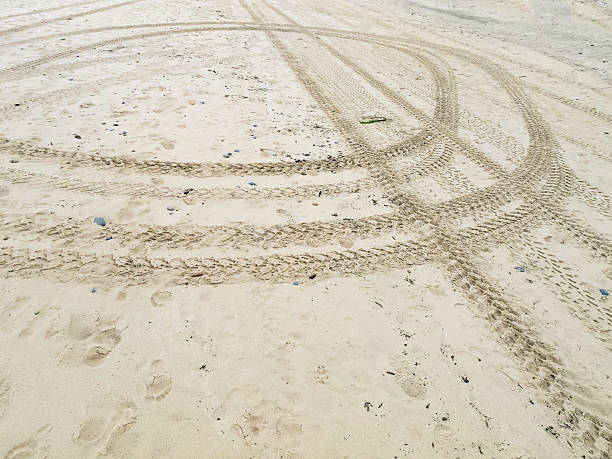vehicle_track: (244, 25, 610, 443), (352, 139, 611, 443), (320, 41, 505, 176), (0, 241, 428, 284), (0, 138, 358, 176), (0, 167, 374, 199), (510, 235, 611, 348), (100, 213, 413, 248), (462, 201, 611, 262), (438, 146, 550, 213), (477, 47, 608, 97), (451, 148, 546, 211), (0, 0, 143, 35), (364, 47, 436, 101), (527, 83, 611, 121), (460, 109, 523, 157), (0, 0, 104, 20), (557, 132, 611, 162), (431, 162, 477, 194), (74, 22, 207, 33), (574, 178, 611, 217), (511, 175, 524, 192)
